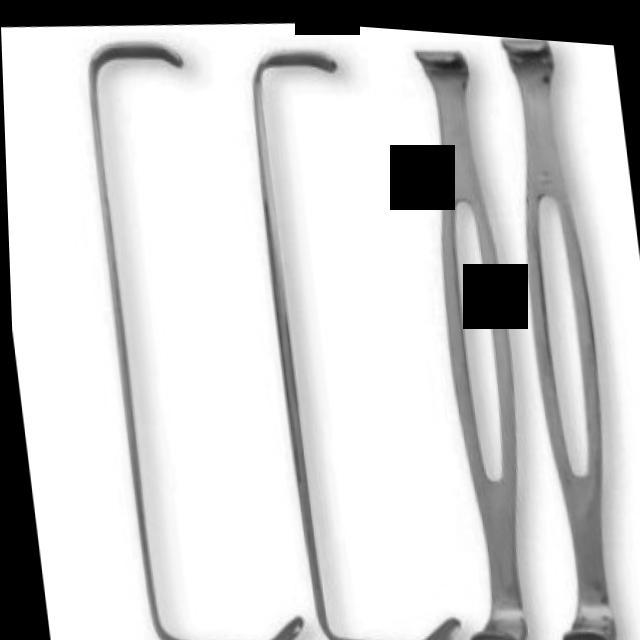Army Navy Retractor: (475, 28, 640, 640), (392, 23, 542, 640)
